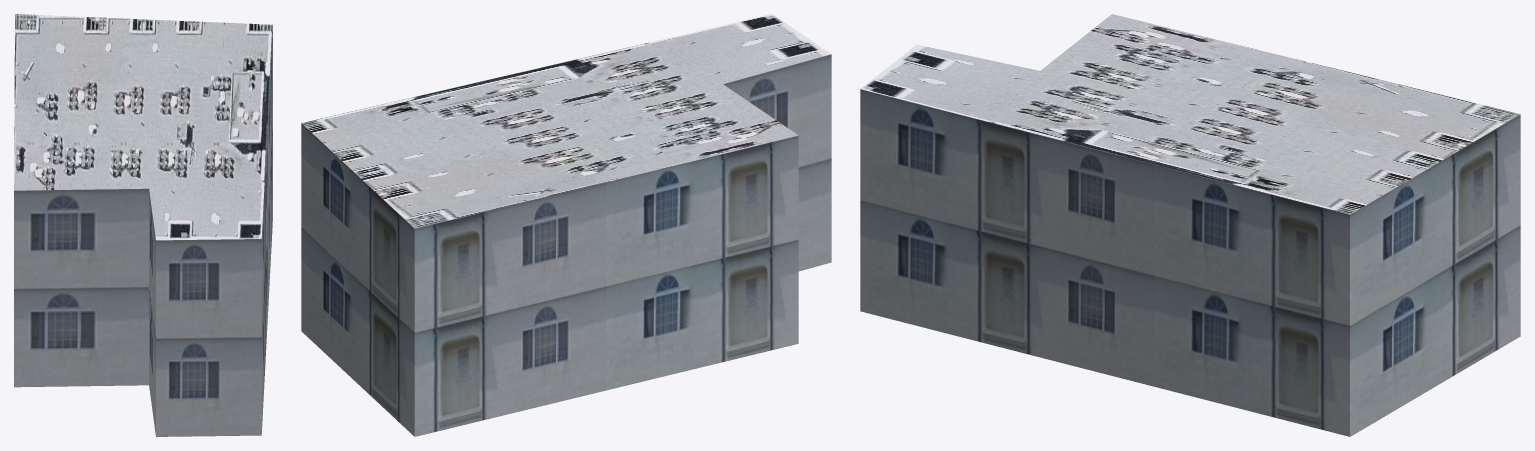
The model's file is ResTex__3165.fbx.
The picture shows the model from 3 angles, left to right: view 1: azimuth 30°, elevation 25°; view 2: azimuth 150°, elevation 25°; view 3: azimuth 270°, elevation 25°; orthographic projection. The views are drawn at different scales.
Parts seen in each view (by area): view 1: CityEngineMaterial_17_m, CityEngineMaterial_8_m; view 2: CityEngineMaterial_17_m, CityEngineMaterial_8_m; view 3: CityEngineMaterial_17_m, CityEngineMaterial_8_m.
Part boxes in pixels (x1,y1,x2,y2): CityEngineMaterial_17_m: (14,25,272,436); CityEngineMaterial_8_m: (14,14,272,240); CityEngineMaterial_17_m: (301,54,831,436); CityEngineMaterial_8_m: (302,14,830,228); CityEngineMaterial_17_m: (860,89,1520,436); CityEngineMaterial_8_m: (860,14,1520,214).
Bounding box in the file's own units: 11.63 × 6 × 16.16.
Materials: 2 (2 with a texture image).
